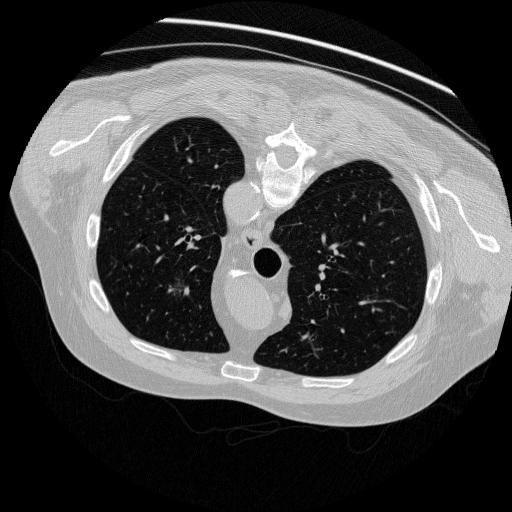nodule: (167, 276, 190, 299)
